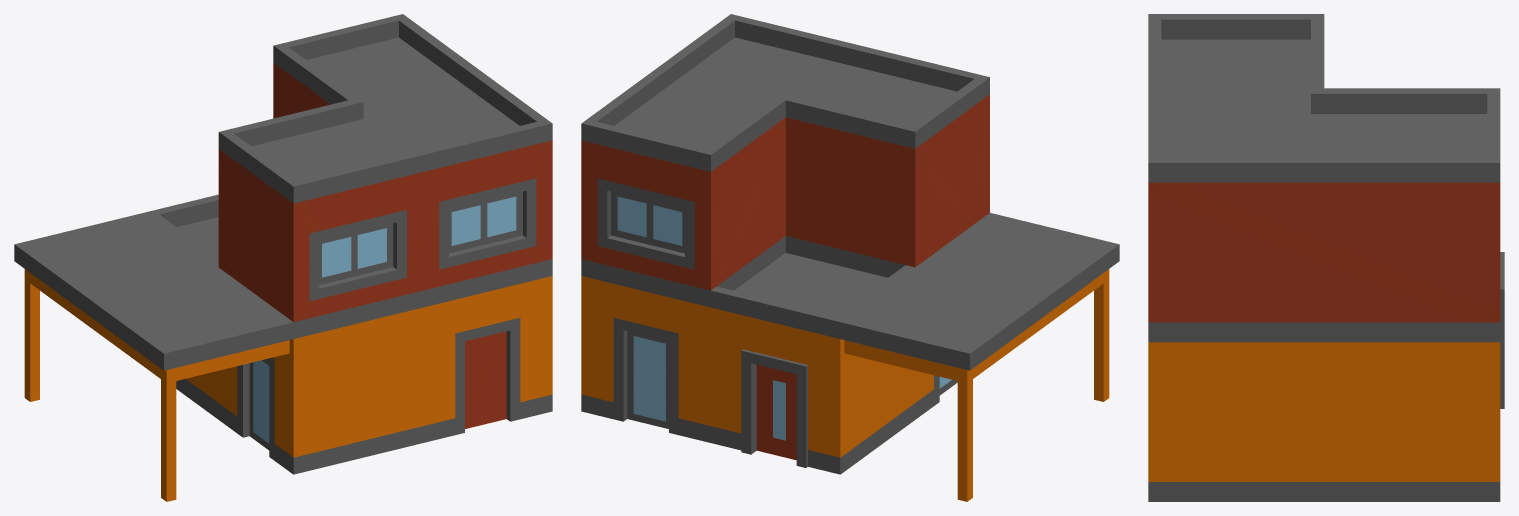
Rendered from house_type19.fbx.
The picture shows the model from 3 angles, left to right: view 1: azimuth 30°, elevation 25°; view 2: azimuth 150°, elevation 25°; view 3: azimuth 270°, elevation 25°; orthographic projection. The views are drawn at different scales.
Parts seen in each view (by area): view 1: house_type19; view 2: house_type19; view 3: house_type19.
Boxes of the visible parts, x1,y1,x2,y2 form: house_type19: (14, 14, 552, 501); house_type19: (581, 14, 1119, 501); house_type19: (1148, 14, 1504, 501).
Size of the model in its own units: 12 by 8.5 by 8.1.
Materials: 1 (1 with a texture image).
